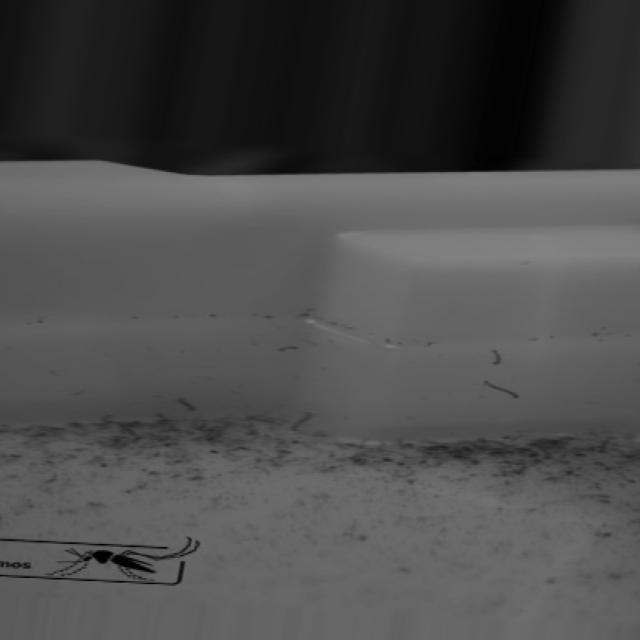larvas: (483, 382, 516, 400), (294, 412, 310, 435), (176, 396, 194, 414), (250, 413, 275, 424), (399, 434, 413, 449), (278, 345, 297, 356), (491, 348, 500, 367), (120, 420, 139, 428), (503, 434, 521, 442), (103, 412, 114, 423)
